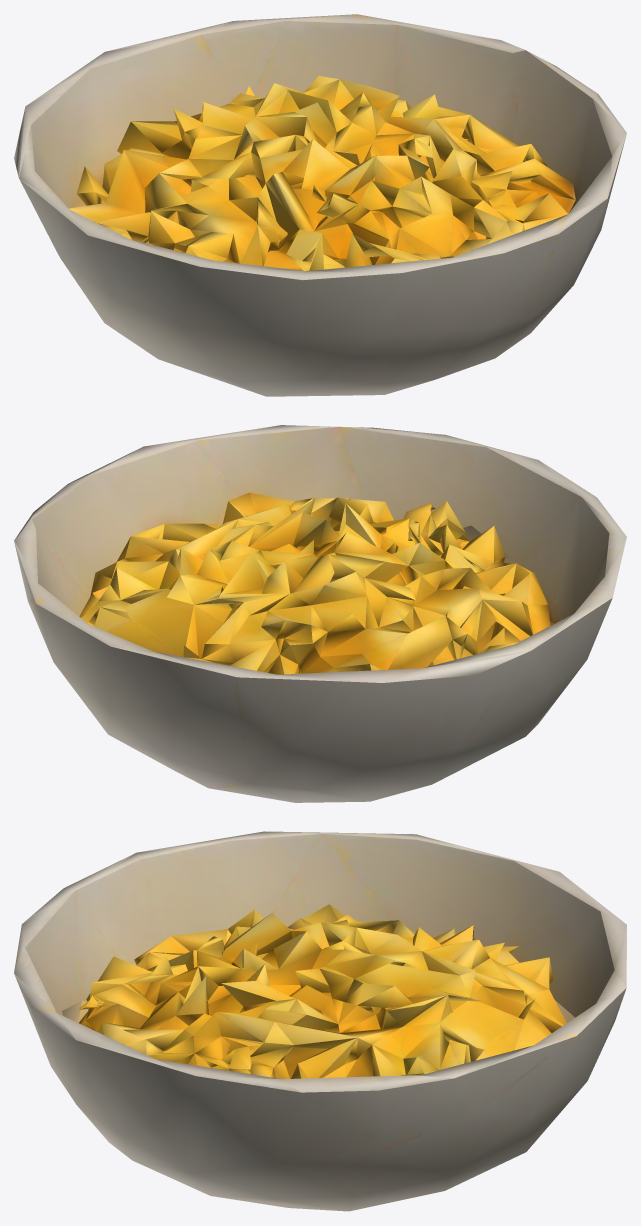
File: cheeseBowl.glb
3 renders of one model, top to bottom at view 1: azimuth 30°, elevation 25°; view 2: azimuth 150°, elevation 25°; view 3: azimuth 270°, elevation 25°, orthographic.
Parts seen in each view (by area): view 1: model; view 2: model; view 3: model.
Part boxes in pixels (bbox=[...]): model: bbox=[14, 14, 626, 396]; model: bbox=[14, 425, 626, 802]; model: bbox=[14, 831, 626, 1211].
Bounding box in the file's own units: 1.89 × 0.7342 × 1.89.
Materials: 1 (1 with a texture image).
